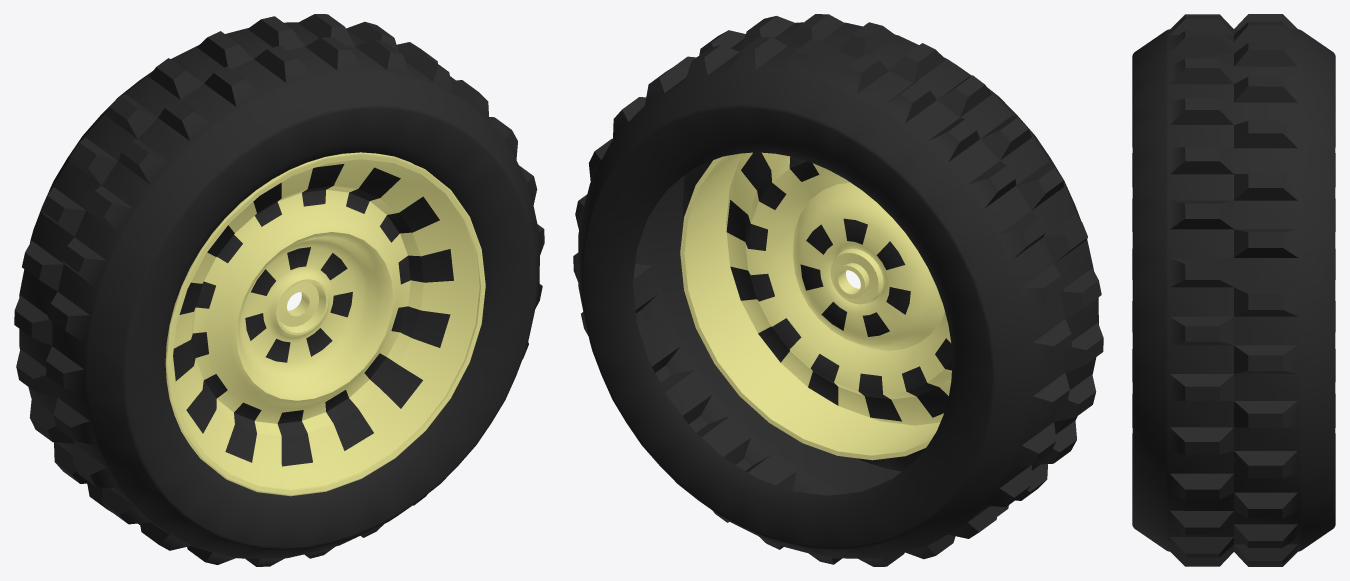
Rendered from hmmwv_wheel.dae.
3 renders of one model, left to right at view 1: azimuth 30°, elevation 25°; view 2: azimuth 150°, elevation 25°; view 3: azimuth 270°, elevation 25°, orthographic.
Parts seen in each view (by area): view 1: Hummer_008; view 2: Hummer_008; view 3: Hummer_008.
Part boxes in pixels (bbox=[...]): Hummer_008: bbox=[14, 14, 544, 566]; Hummer_008: bbox=[573, 14, 1103, 566]; Hummer_008: bbox=[1132, 14, 1335, 566].
Bounding box in the file's own units: 1.04 × 0.3819 × 1.04.
